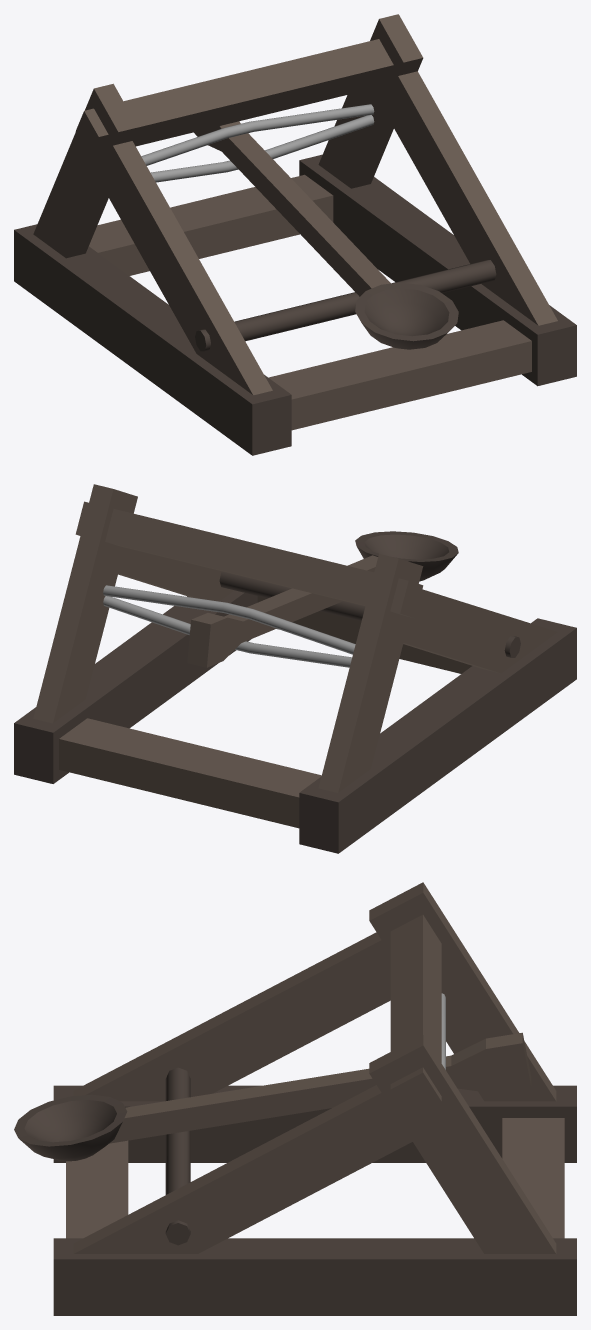
The model's file is Catapult.fbx.
The picture shows the model from 3 angles, top to bottom: view 1: azimuth 30°, elevation 25°; view 2: azimuth 150°, elevation 25°; view 3: azimuth 270°, elevation 25°; orthographic projection. The views are drawn at different scales.
Visible parts, largest first — view 1: Catapult; view 2: Catapult; view 3: Catapult.
Part boxes in pixels (x1,y1,x2,y2): Catapult: (14, 14, 576, 455); Catapult: (14, 484, 576, 853); Catapult: (14, 882, 576, 1315).
Size of the model in its own units: 330 by 235 by 452.
